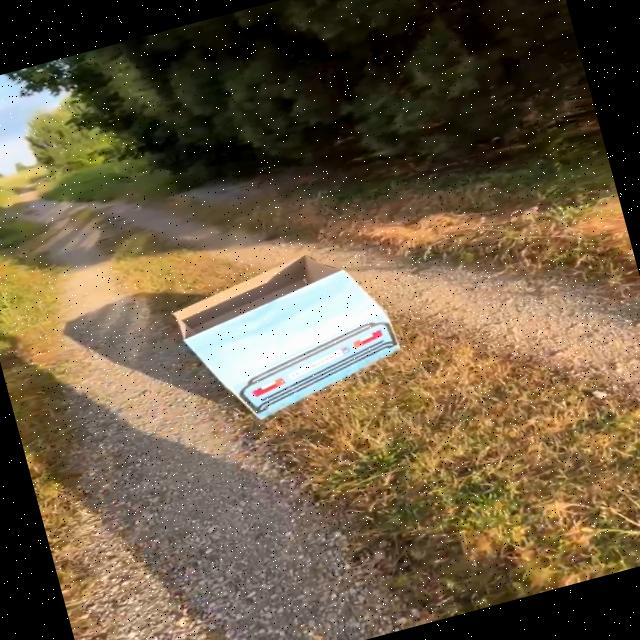blue_car: (113, 210, 447, 458)
